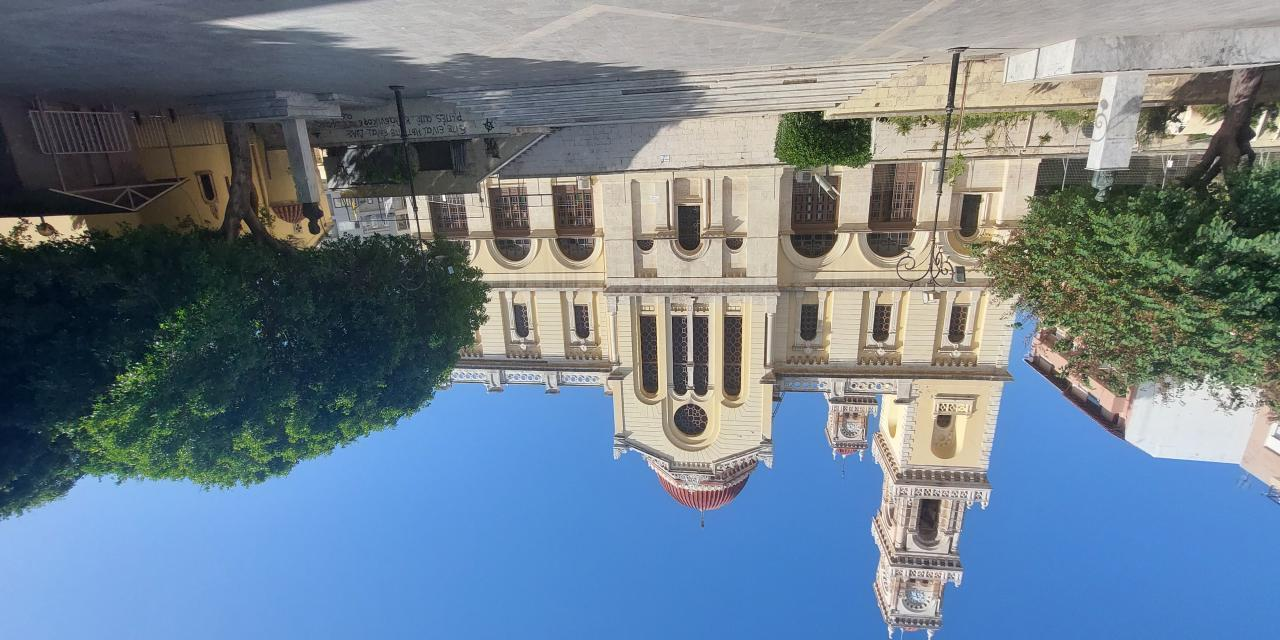Agios Minas: (405, 189, 1042, 638)
